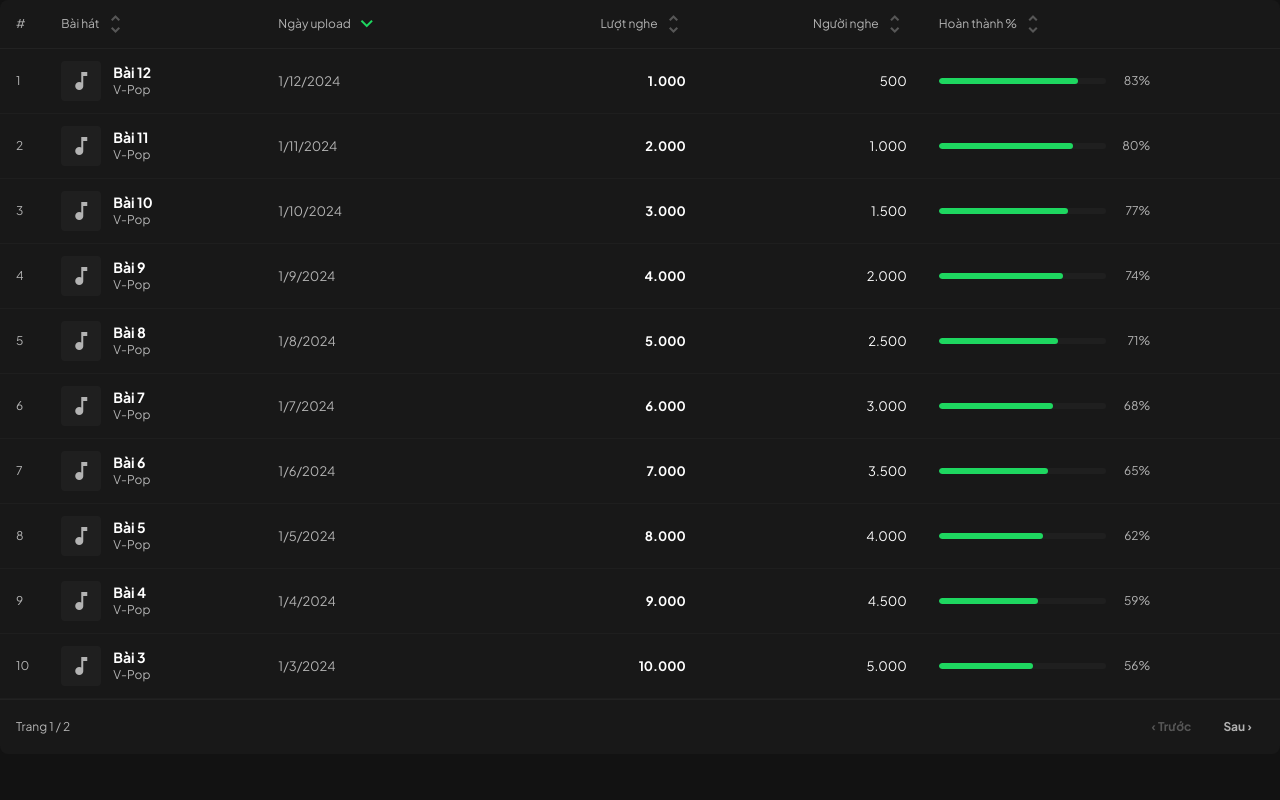
Test: CreatorSongTable — sorting › resets to page 0 when sort column changes
The image size is (1280, 800).
# Go to page 2
Click the button with aria-label "Trang sau": (1238, 727) [1211,712,1264,742]
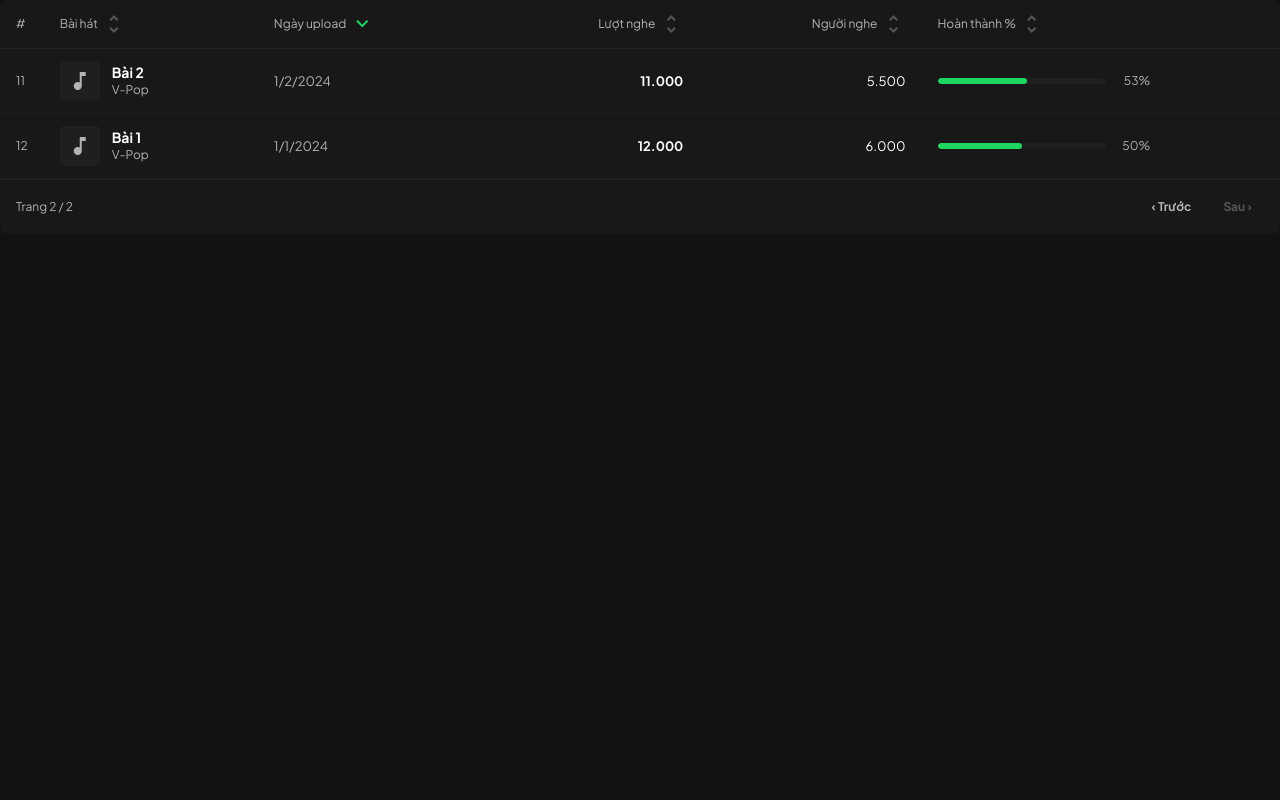
Check: the text "Trang 2 / 2" is shown, box [16,198,73,216]
# Sort by something else → should reset to page 1
Click the button "Lượt nghe": (641, 24) [598,12,683,36]
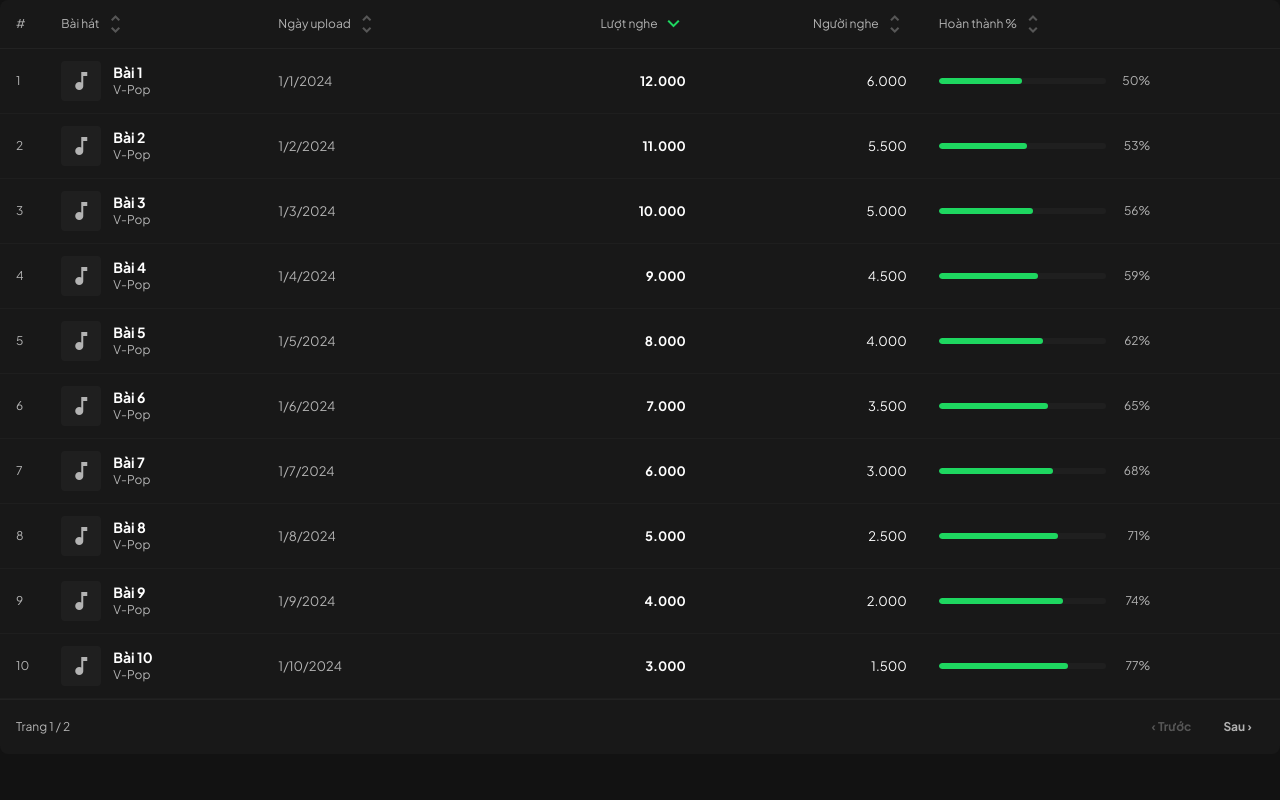
Check: the text "Trang 1 / 2" is shown, box [16,718,70,736]
